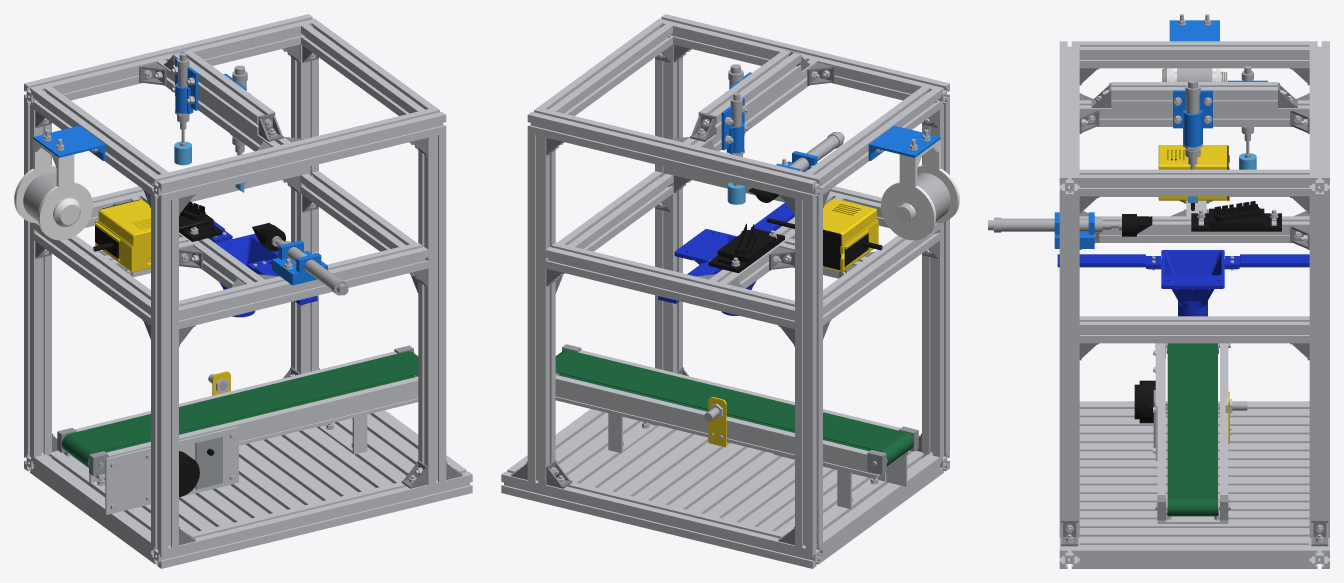
The model's file is rig_merged.glb.
3 renders of one model, left to right at view 1: azimuth 30°, elevation 25°; view 2: azimuth 150°, elevation 25°; view 3: azimuth 270°, elevation 25°, orthographic.
Visible parts, largest first — view 1: c_154_159_168, c_3_37_13, c_67_70_76, c_222_222_222, c_3_55_226, c_244_177_3, c_115_118_125, c_2_2_2, c_87_91_97, c_146_149_163, c_3_10_177, c_202_202_202; view 2: c_154_159_168, c_3_37_13, c_67_70_76, c_222_222_222, c_2_2_2, c_244_177_3, c_3_55_226, c_115_118_125, c_3_10_177, c_146_149_163, c_87_91_97; view 3: c_154_159_168, c_3_37_13, c_3_10_177, c_67_70_76, c_2_2_2, c_115_118_125, c_3_55_226, c_244_177_3, c_146_149_163, c_87_91_97.
Boxes of the visible parts, x1,y1,x2,y2 form: c_154_159_168: (24,14,472,568); c_3_37_13: (62,351,418,467); c_67_70_76: (35,44,462,545); c_222_222_222: (14,139,92,240); c_3_55_226: (33,58,327,285); c_244_177_3: (95,199,230,395); c_115_118_125: (23,52,418,467); c_2_2_2: (93,199,285,496); c_87_91_97: (57,345,413,489); c_146_149_163: (42,49,455,534); c_3_10_177: (208,221,317,317); c_202_202_202: (53,197,80,226); c_154_159_168: (501,14,949,568); c_3_37_13: (555,350,913,465); c_67_70_76: (511,44,938,545); c_222_222_222: (881,139,959,240); c_2_2_2: (708,188,882,273); c_244_177_3: (708,198,878,447); c_3_55_226: (721,72,940,172); c_115_118_125: (555,64,950,466); c_3_10_177: (658,203,794,315); c_146_149_163: (518,49,931,534); c_87_91_97: (562,344,918,474); c_154_159_168: (1059,41,1329,568); c_3_37_13: (1167,343,1217,516); c_3_10_177: (1057,250,1309,316); c_67_70_76: (1061,68,1328,546); c_2_2_2: (1122,145,1281,423); c_115_118_125: (988,65,1253,515); c_3_55_226: (1054,20,1267,248); c_244_177_3: (1158,145,1229,444); c_146_149_163: (1065,14,1323,542); c_87_91_97: (1153,343,1228,520).
Size of the model in its own units: 0.9025 by 0.896 by 0.679.
